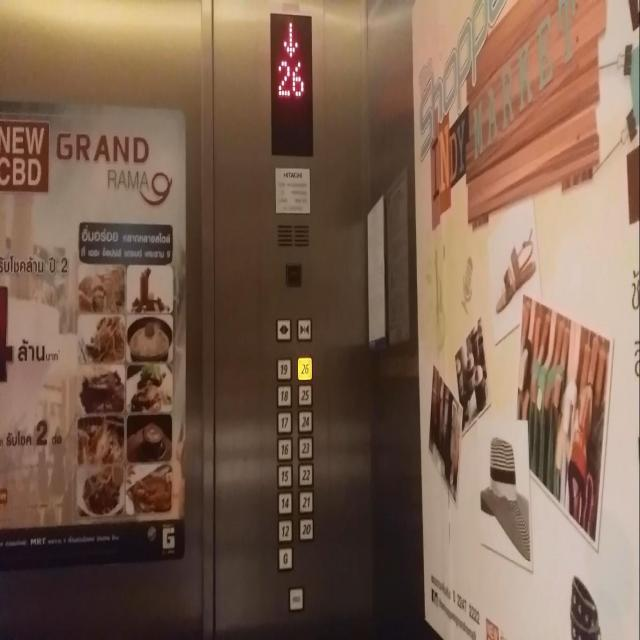12: (277, 518, 292, 542)
14: (277, 491, 292, 515)
15: (277, 464, 292, 488)
16: (276, 437, 292, 460)
17: (276, 410, 292, 433)
18: (276, 382, 291, 408)
19: (276, 357, 292, 380)
20: (298, 517, 313, 541)
21: (298, 489, 313, 513)
22: (297, 462, 313, 487)
23: (297, 436, 313, 460)
24: (297, 409, 313, 433)
25: (296, 383, 312, 408)
26: (297, 356, 312, 380)
G: (277, 546, 293, 570)
blur: (286, 262, 302, 288)
close: (297, 317, 312, 341)
led: (268, 11, 314, 157)
open: (276, 318, 291, 340)
text_blur: (289, 585, 303, 612)
